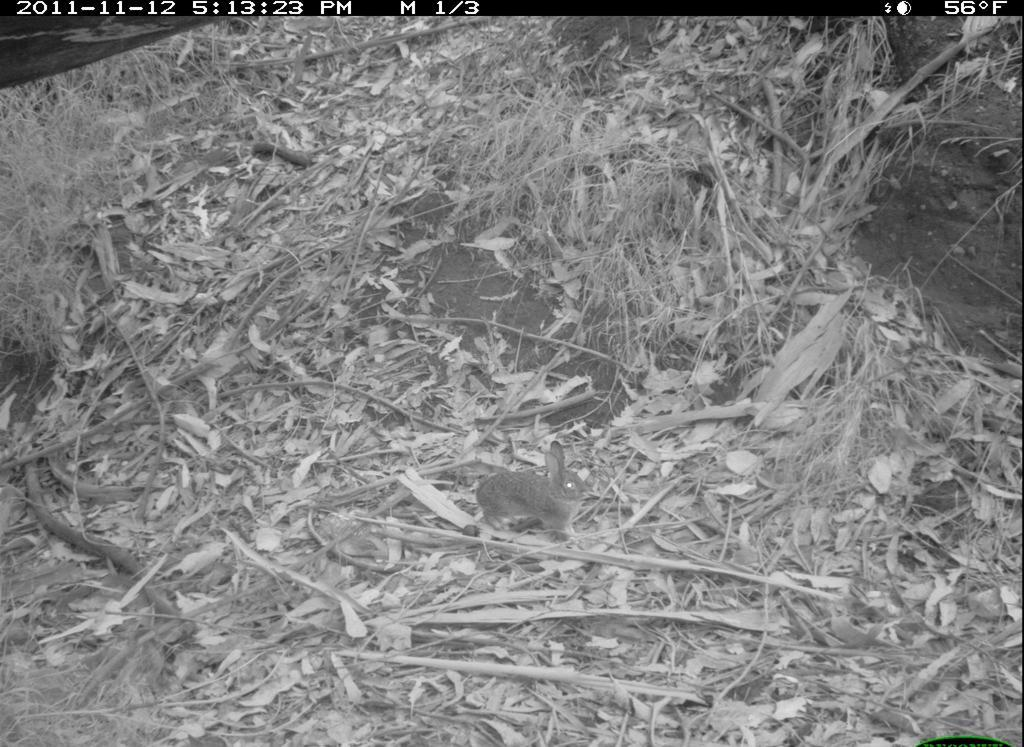rabbit: (456, 429, 611, 559)
